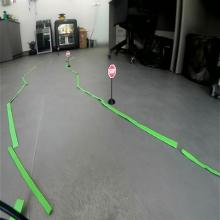stop: (107, 64, 117, 78)
